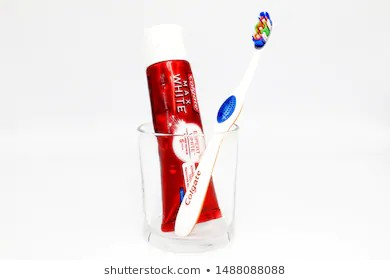toothbrush: (171, 6, 283, 237)
